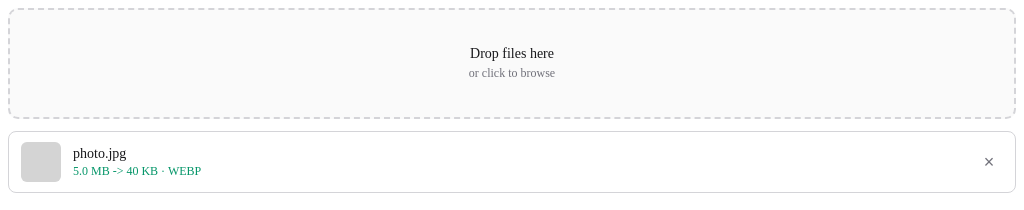
Test case: <Dropzone /> › removes a file, and releases its preview
Earlier steps of the test are not shown.
Expected: the text "photo.jpg" is shown, left=73, top=146, right=126, bottom=160
Click the button named "Remove photo.jpg" at (989, 162), box left=975, top=148, right=1003, bottom=176
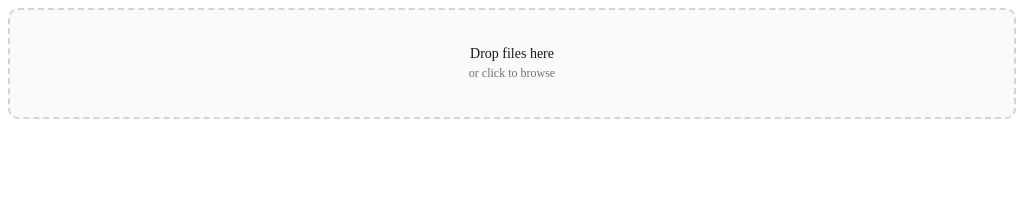
Now the text "photo.jpg" is gone
